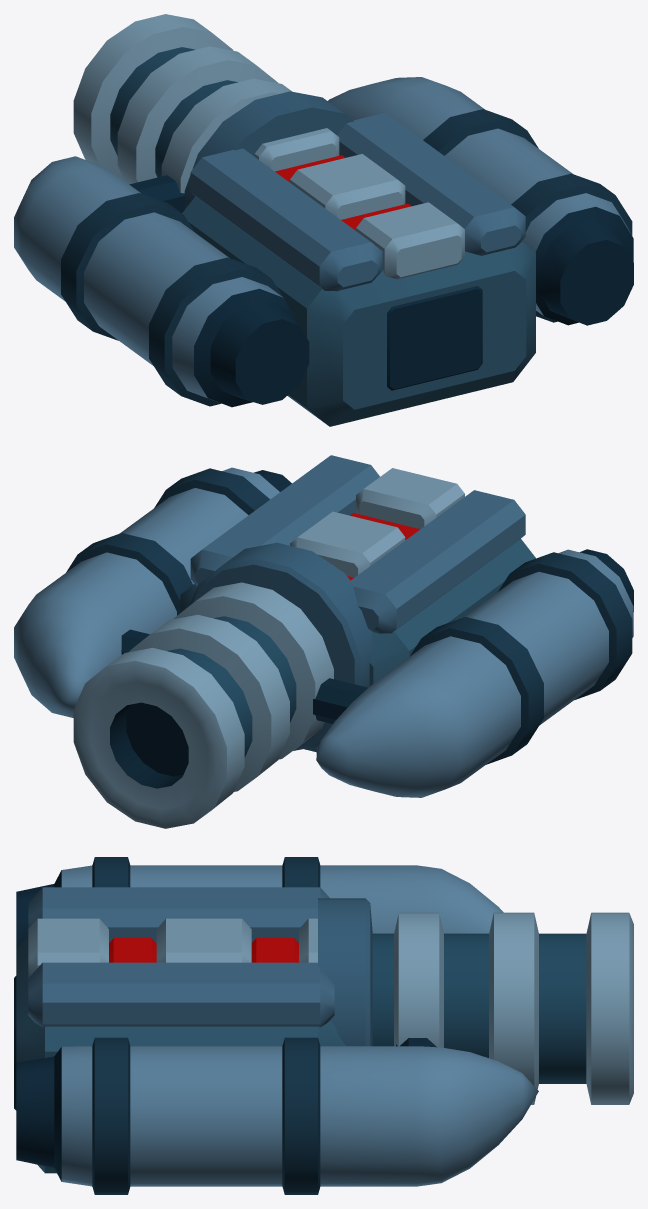
The model's file is zica-flamethrower.glb.
The picture shows the model from 3 angles, top to bottom: view 1: azimuth 30°, elevation 25°; view 2: azimuth 150°, elevation 25°; view 3: azimuth 270°, elevation 25°; orthographic projection. The views are drawn at different scales.
Parts seen in each view (by area): view 1: sidekick-zica-flamethrower; view 2: sidekick-zica-flamethrower; view 3: sidekick-zica-flamethrower.
Boxes of the visible parts, left/top/right/bottom form: sidekick-zica-flamethrower: left=14, top=14, right=633, bottom=426; sidekick-zica-flamethrower: left=14, top=455, right=633, bottom=828; sidekick-zica-flamethrower: left=14, top=857, right=633, bottom=1194.
Size of the model in its own units: 1.02 by 0.4171 by 1.09.
